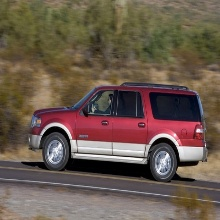no damage: (28, 84, 210, 182)
